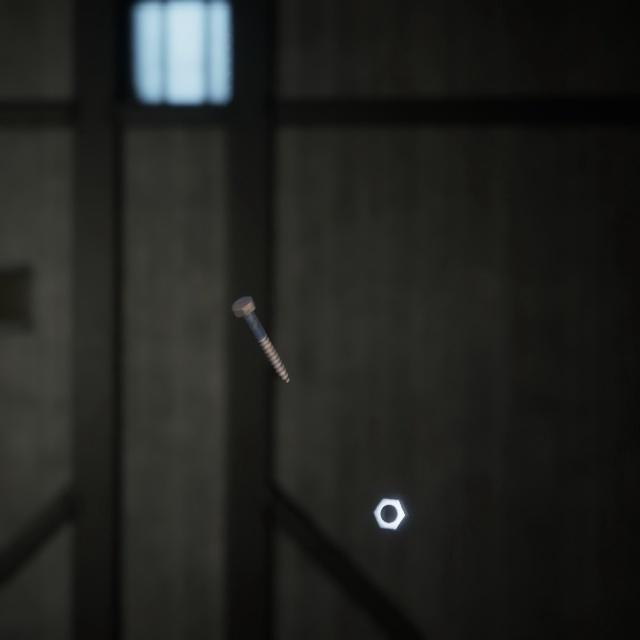bolt: (227, 272, 294, 369)
nut: (368, 472, 413, 513)
